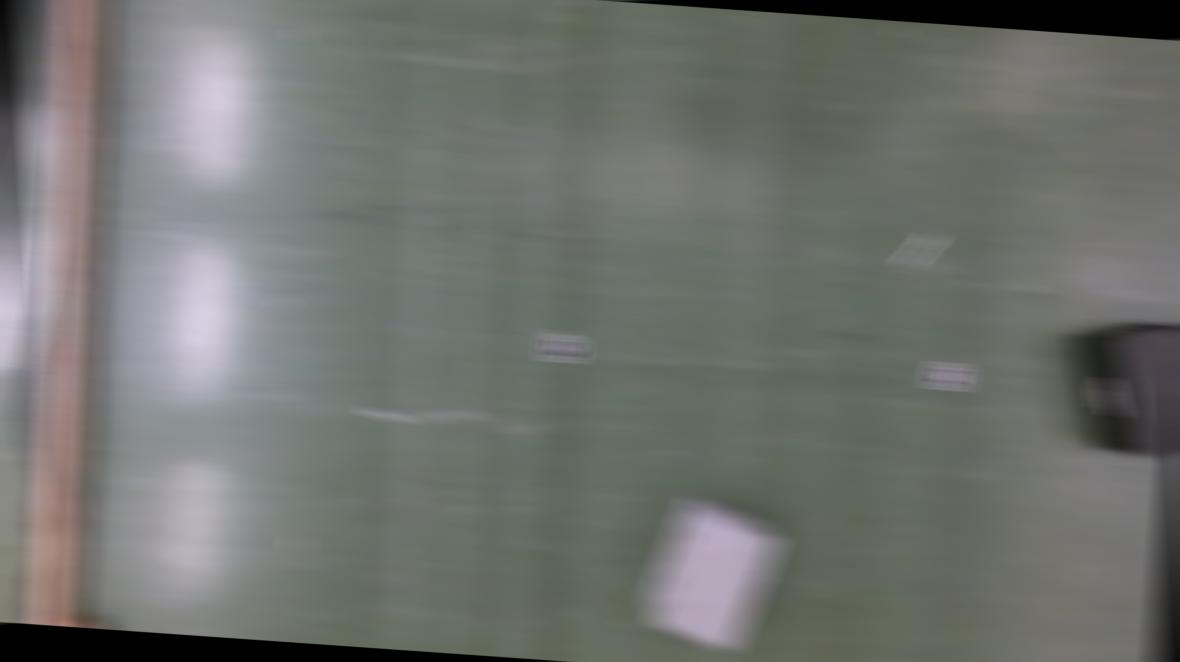probes: (898, 231, 938, 269)
rako: (641, 490, 783, 654), (1063, 314, 1180, 459)
